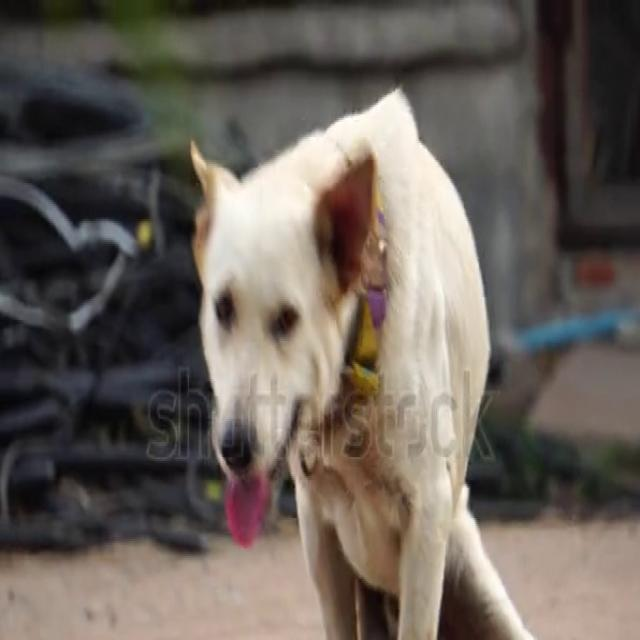normal_animals: (184, 82, 550, 638)
